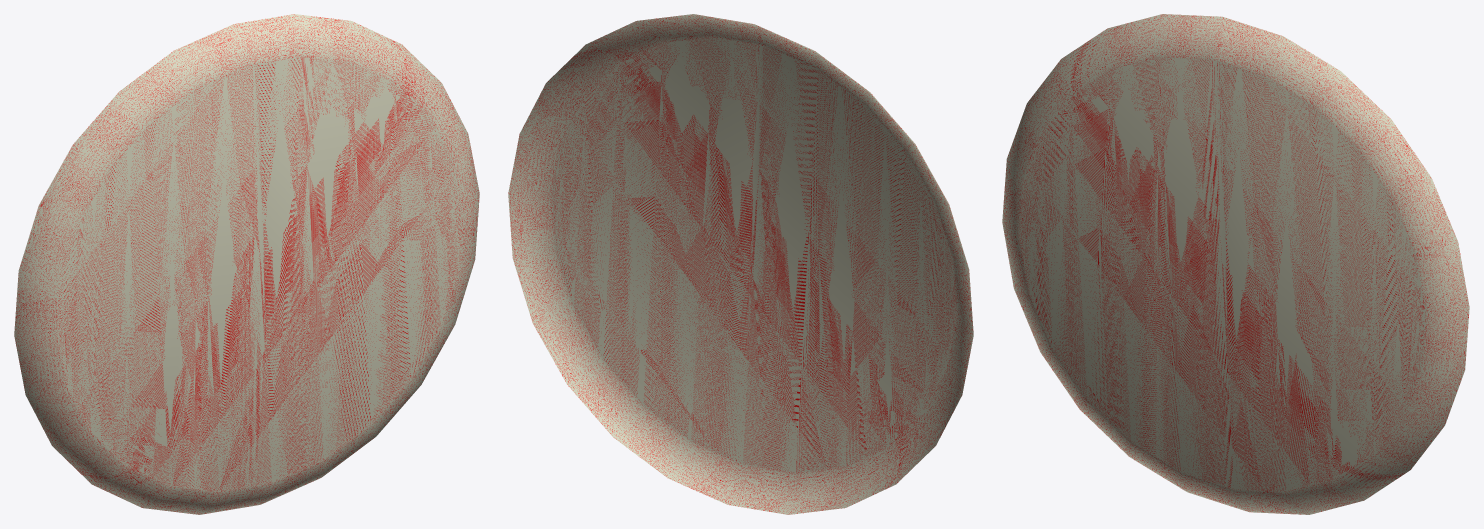
File: original-67.obj
3 renders of one model, left to right at view 1: azimuth 30°, elevation 25°; view 2: azimuth 150°, elevation 25°; view 3: azimuth 330°, elevation 25°, orthographic.
Parts seen in each view (by area): view 1: mesh52/mesh52-geometry/material_5#mesh52-geometry; view 2: mesh52/mesh52-geometry/material_5#mesh52-geometry; view 3: mesh52/mesh52-geometry/material_5#mesh52-geometry.
Part boxes in pixels (x1,y1,x2,y2): mesh52/mesh52-geometry/material_5#mesh52-geometry: (14, 14, 479, 514); mesh52/mesh52-geometry/material_5#mesh52-geometry: (508, 14, 973, 514); mesh52/mesh52-geometry/material_5#mesh52-geometry: (1002, 14, 1469, 514).
Size of the model in its own units: 0.1132 by 0.1132 by 0.00567.
